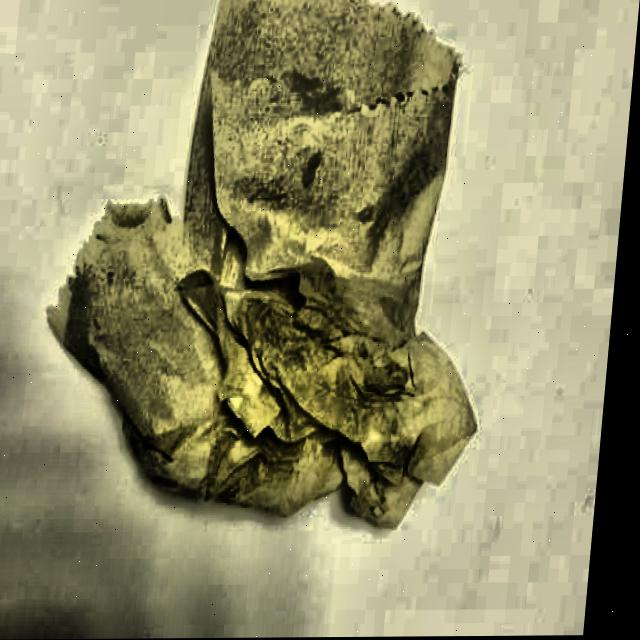paper: (20, 0, 521, 552)
